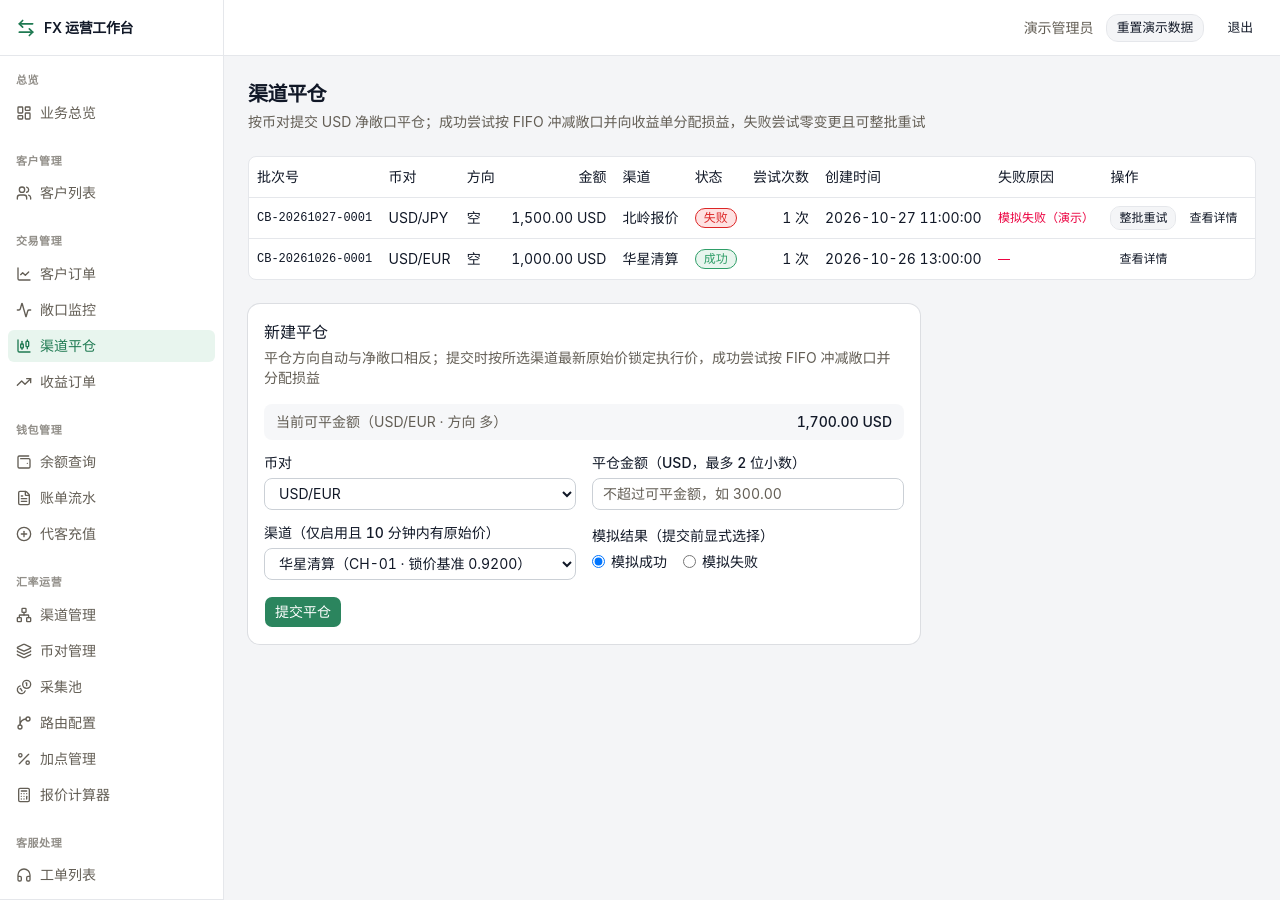
表格语义与弹窗键盘可用 › 行展开/详情按钮带 aria-expanded 状态（运营端平仓批次页）
Click the button "查看详情" in the row of "CB-20261027-0001": (1214,218) [1180,206,1246,230]
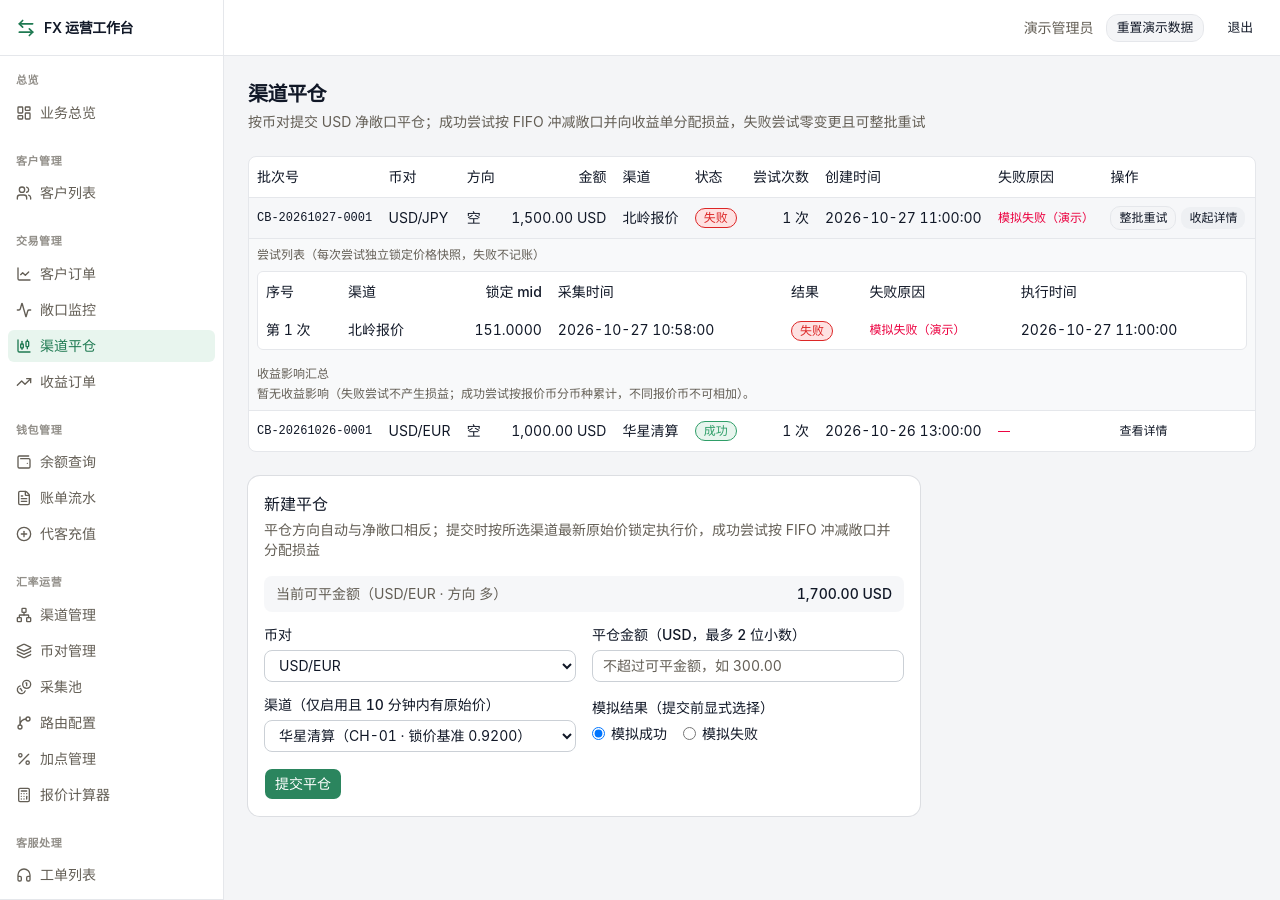
Expected: the button "收起详情" is expanded, [1180,206,1246,230]
